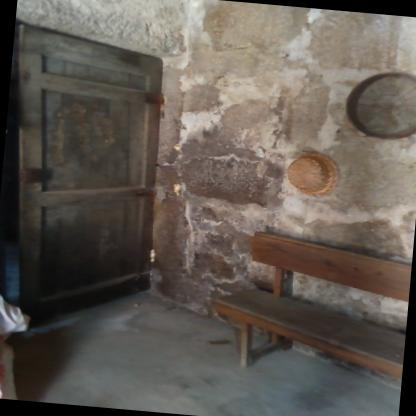closed: (0, 0, 207, 329)
